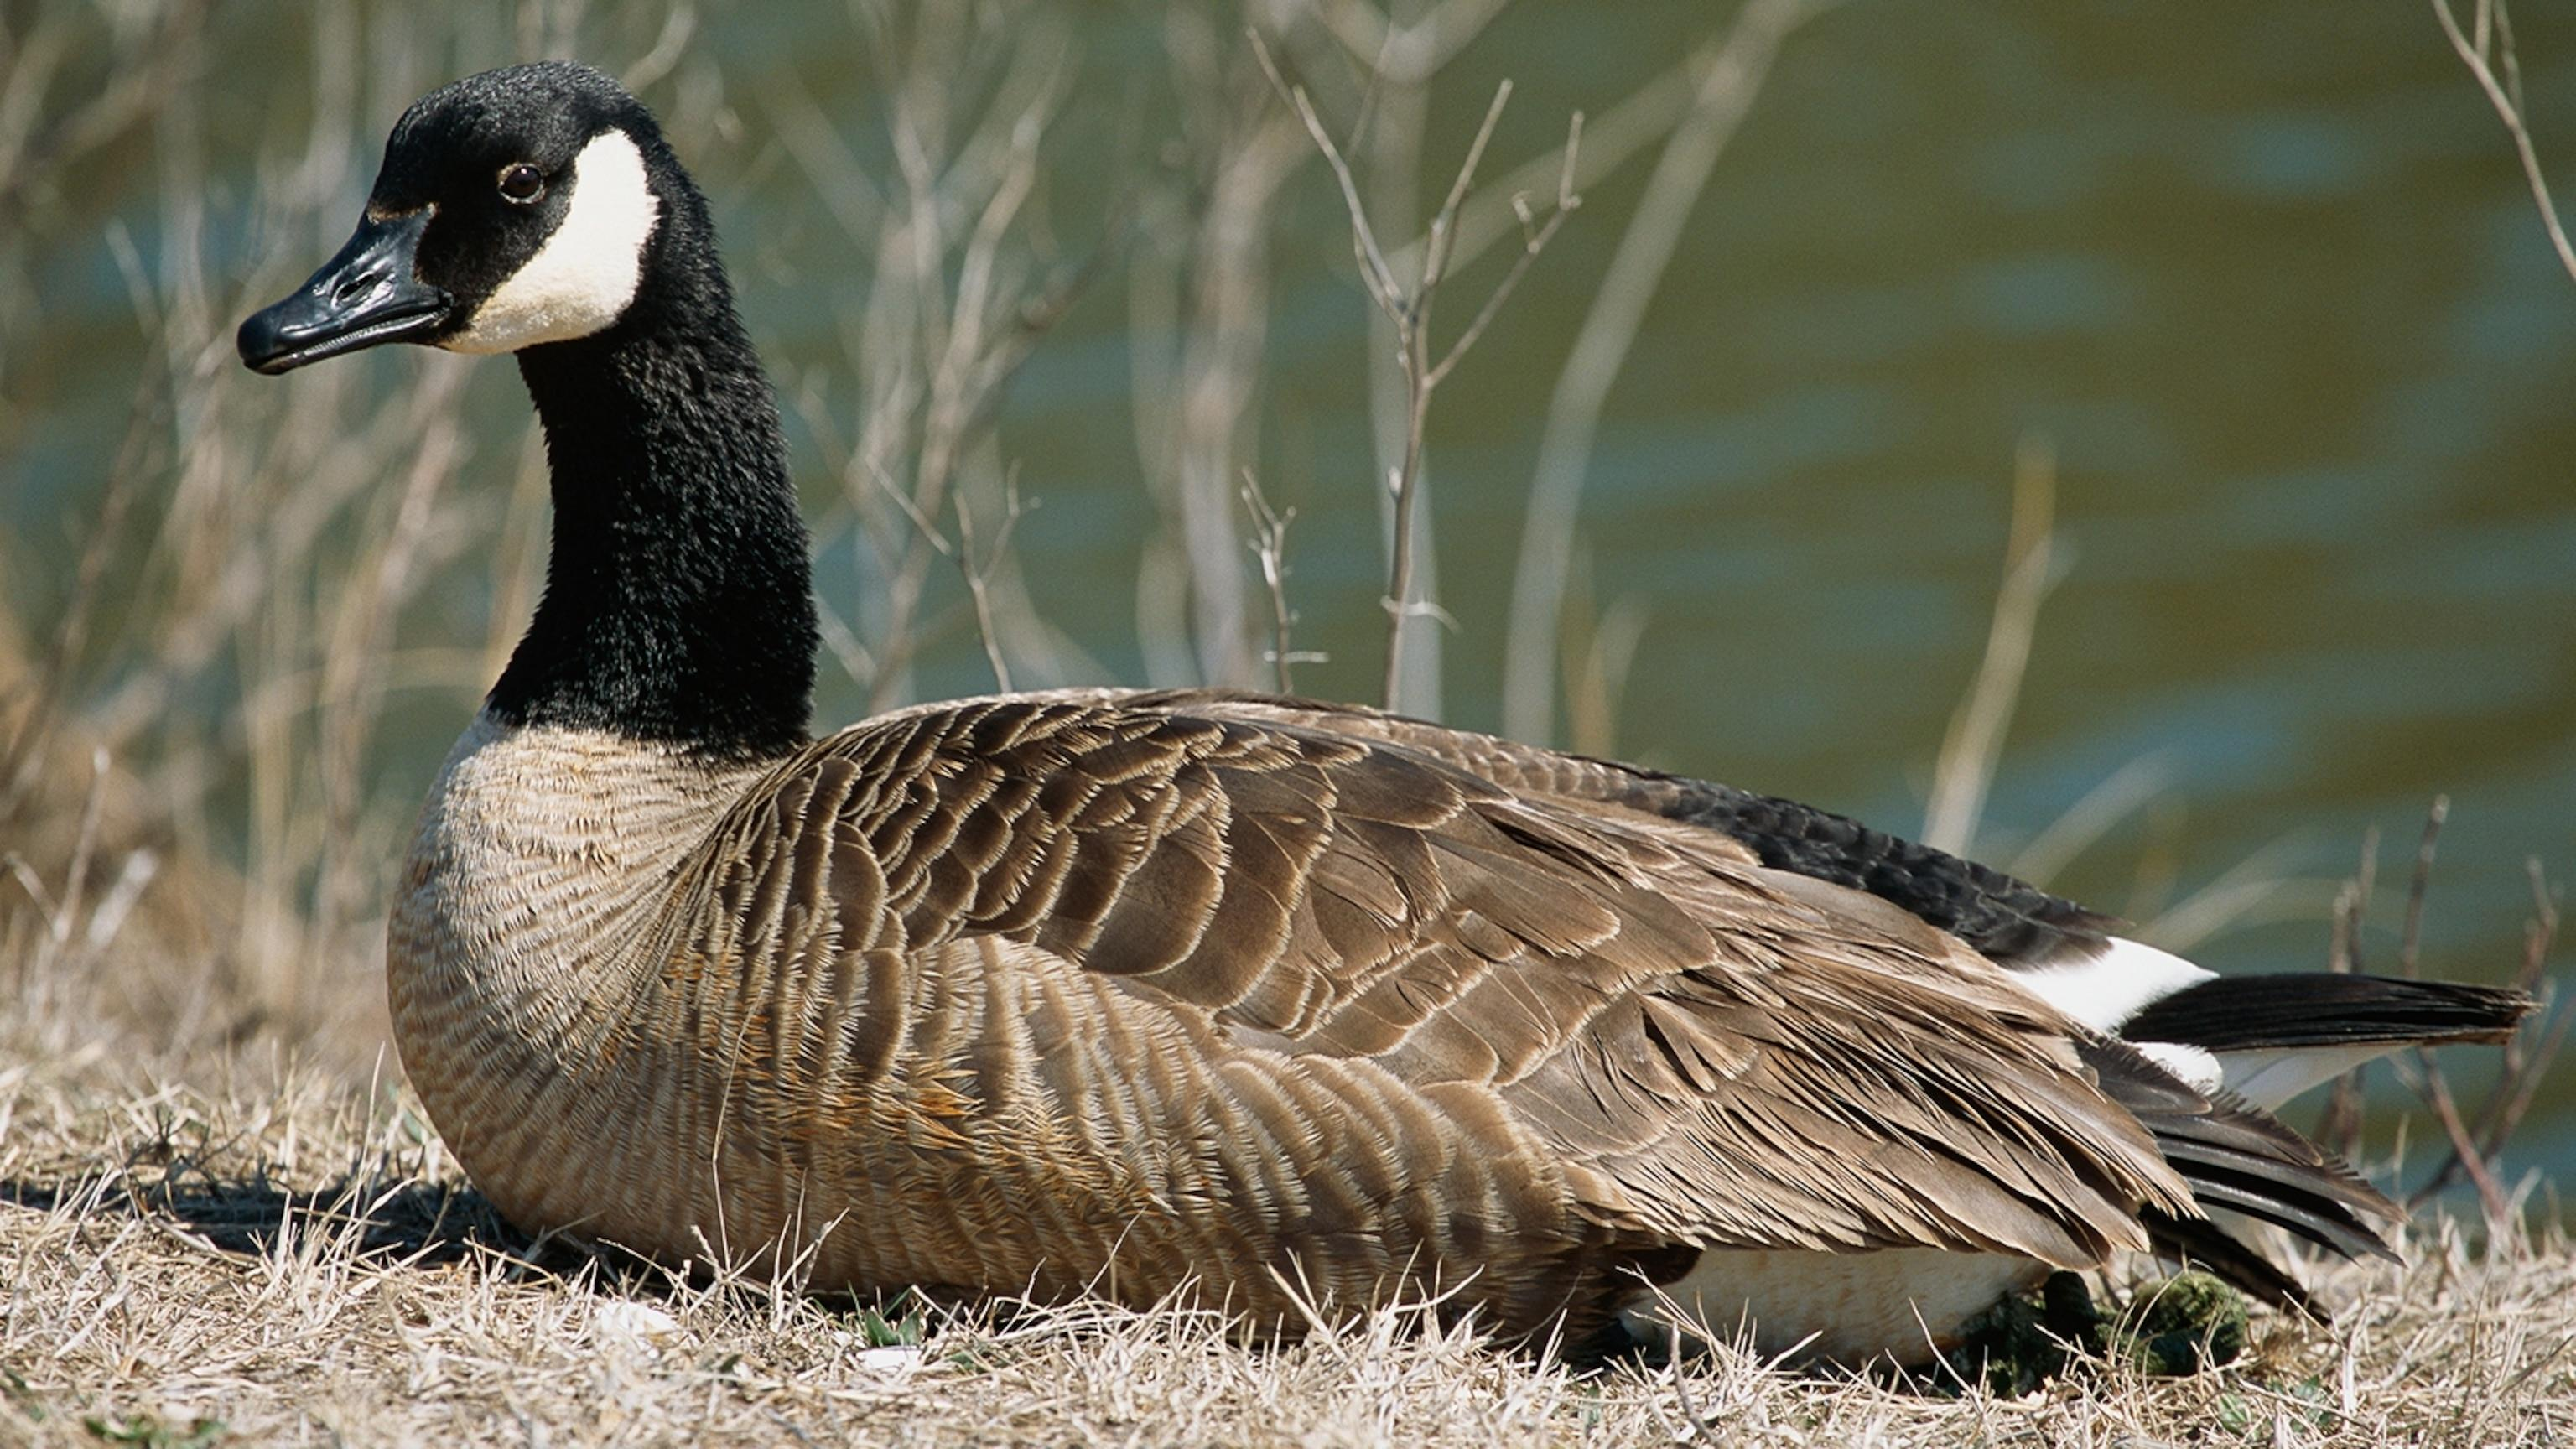Canadian-Goose: (235, 57, 2505, 1373)
